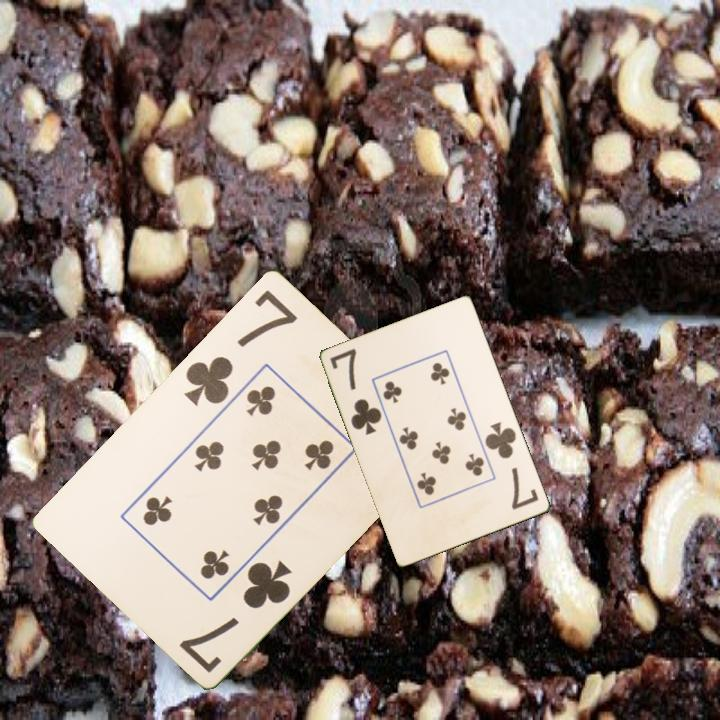7c: (180, 285, 301, 408), (175, 556, 295, 676), (482, 418, 542, 513), (326, 345, 385, 438)
